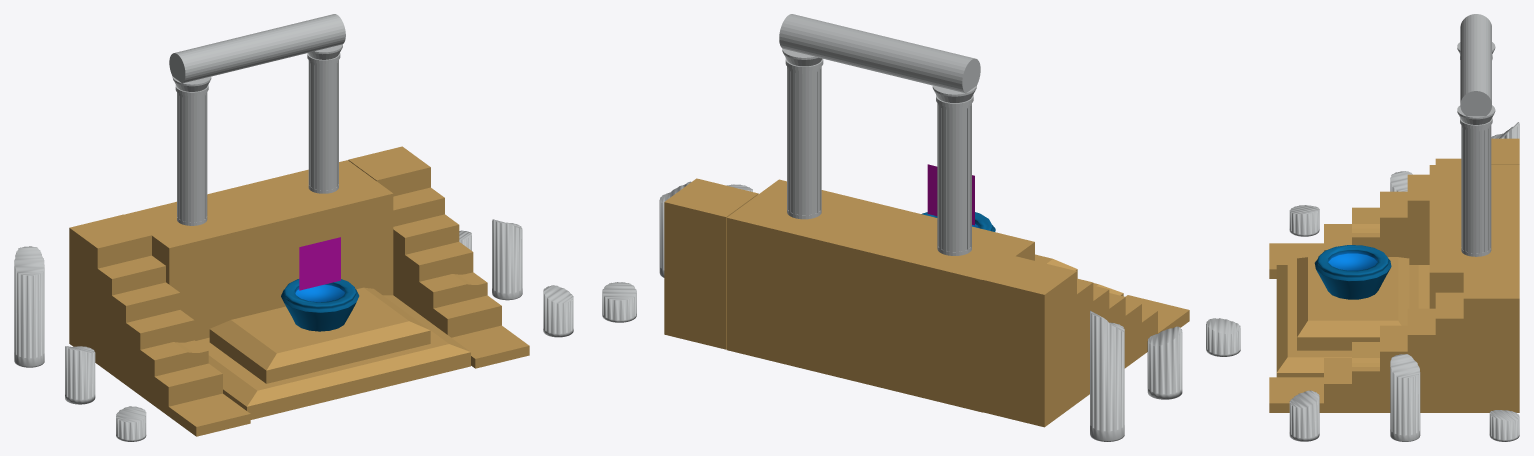
Rendered from mod_altar.fbx.
3 views of the same model, side by side, from view 1: azimuth 30°, elevation 25°; view 2: azimuth 150°, elevation 25°; view 3: azimuth 270°, elevation 25° (orthographic). The views are drawn at different scales.
Parts seen in each view (by area): view 1: BezierCurve.001; view 2: BezierCurve.001; view 3: BezierCurve.001.
Part boxes in pixels (bbox=[...]): BezierCurve.001: bbox=[14, 14, 573, 441]; BezierCurve.001: bbox=[602, 14, 1240, 441]; BezierCurve.001: bbox=[1269, 14, 1519, 441].
Bounding box in the file's own units: 4.05 × 2.43 × 1.96.
